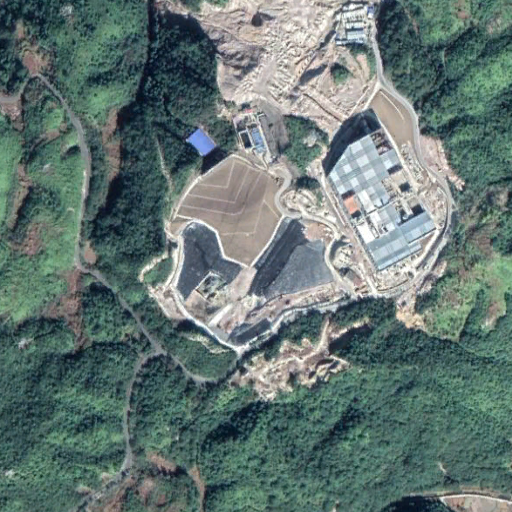lf: (165, 213, 346, 348)
